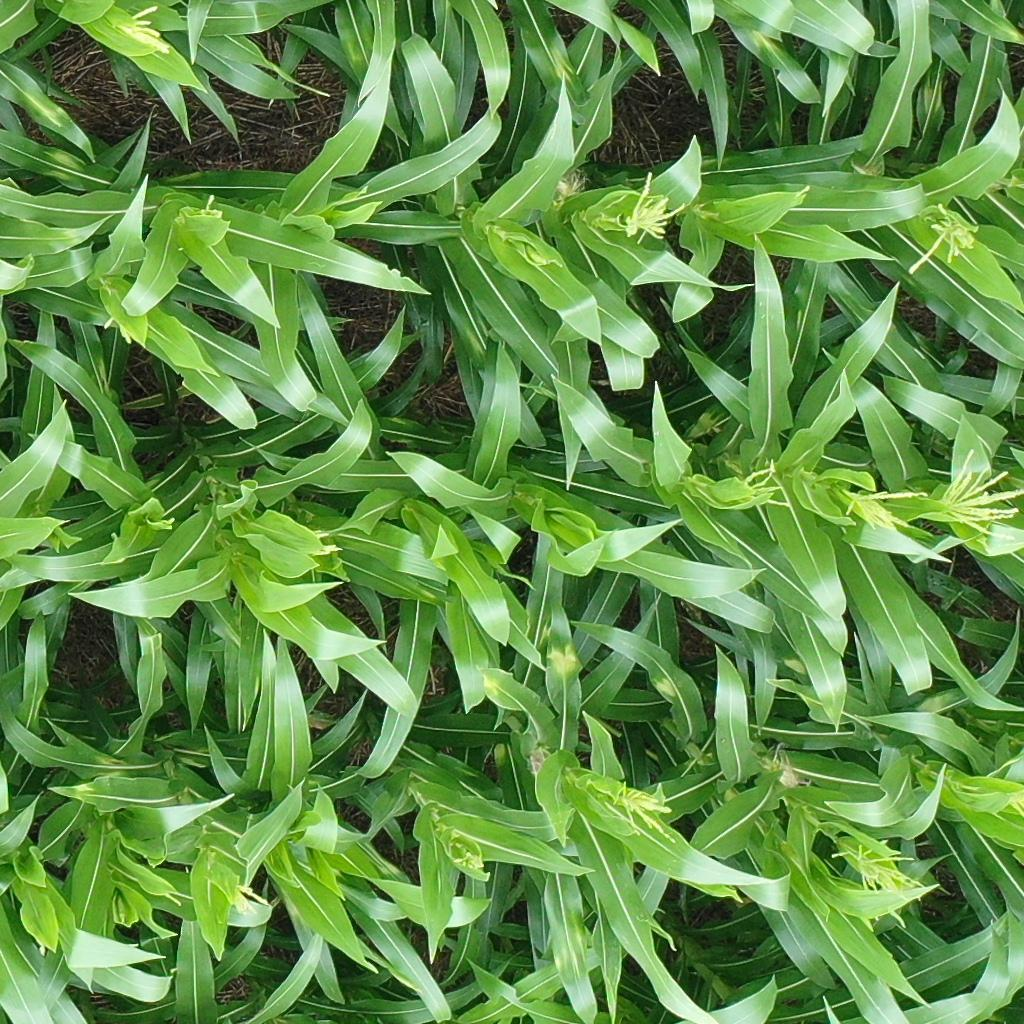Tassel: (831, 833, 933, 932), (939, 446, 1024, 541), (896, 193, 986, 279), (612, 167, 689, 250), (600, 773, 683, 848), (836, 477, 929, 530), (111, 3, 175, 58), (740, 454, 797, 513), (219, 875, 273, 917), (194, 189, 236, 231), (302, 525, 346, 562), (96, 309, 139, 346), (446, 844, 488, 873), (1002, 787, 1024, 820)
